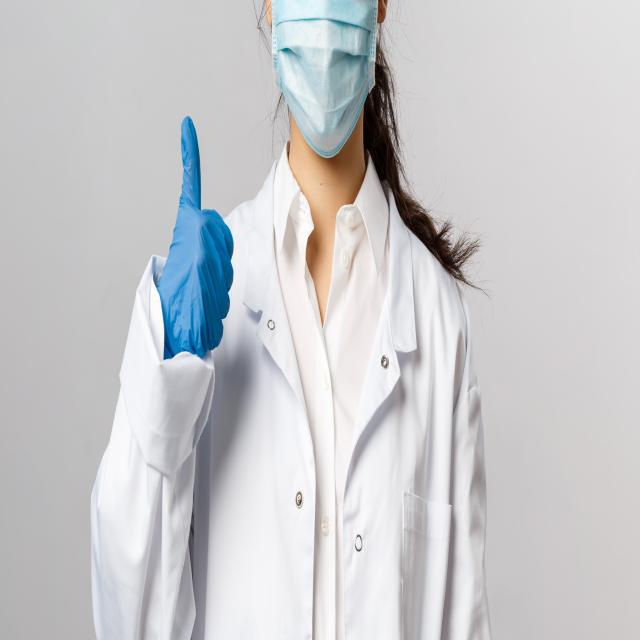Gloves: (147, 100, 250, 394)
Mask: (264, 5, 382, 164)
